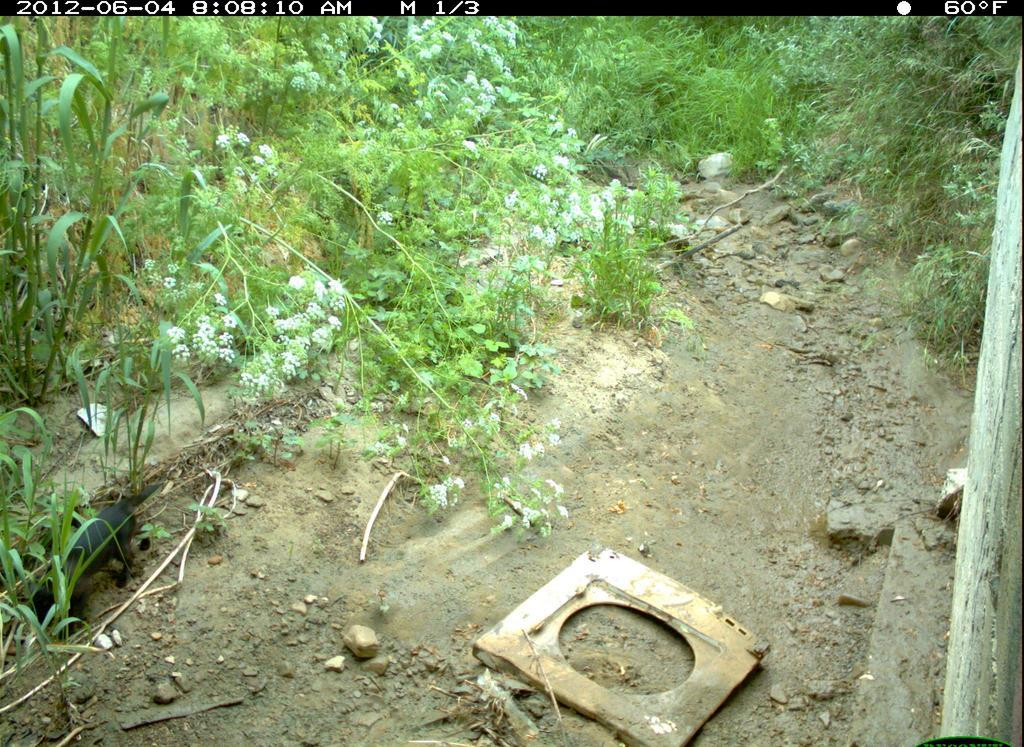cat: (33, 482, 163, 647)
